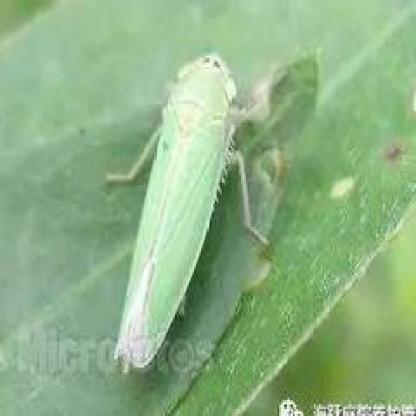Green-Leafhopper: (104, 48, 277, 376)
